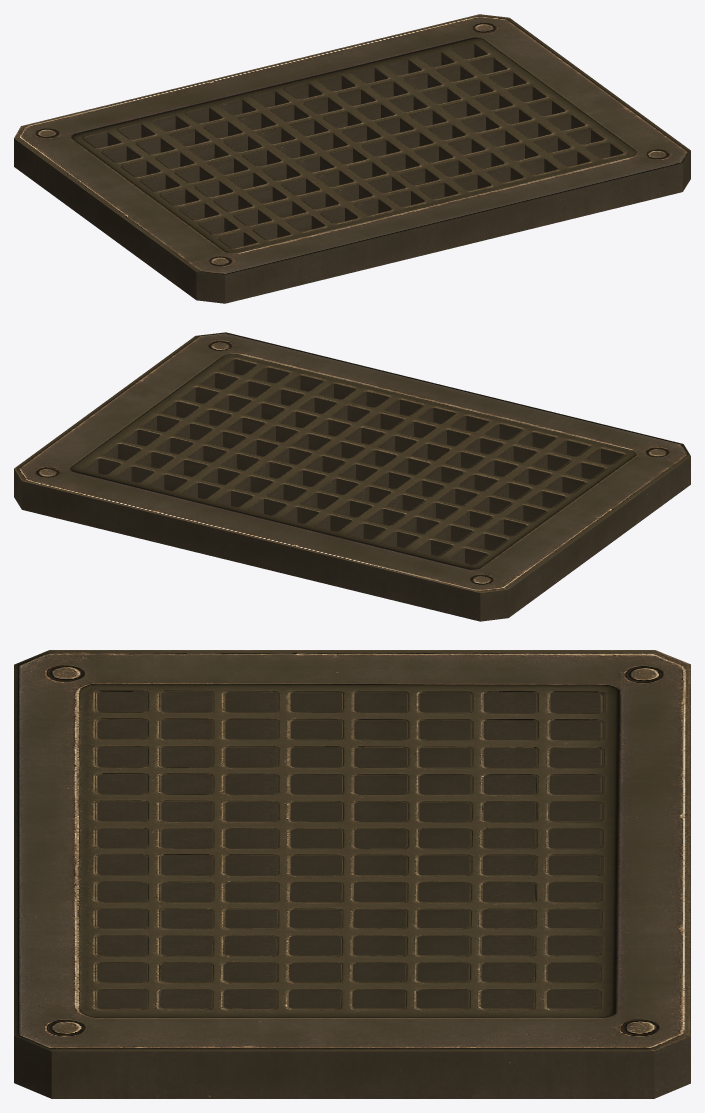
The model's file is Platform.fbx.
3 renders of one model, top to bottom at view 1: azimuth 30°, elevation 25°; view 2: azimuth 150°, elevation 25°; view 3: azimuth 270°, elevation 25°, orthographic. The views are drawn at different scales.
Parts seen in each view (by area): view 1: Cube.022; view 2: Cube.022; view 3: Cube.022.
Part boxes in pixels (bbox=[...]): Cube.022: bbox=[14, 14, 690, 303]; Cube.022: bbox=[14, 332, 690, 621]; Cube.022: bbox=[14, 650, 690, 1098].
Bounding box in the file's own units: 1259 × 69.33 × 898.
